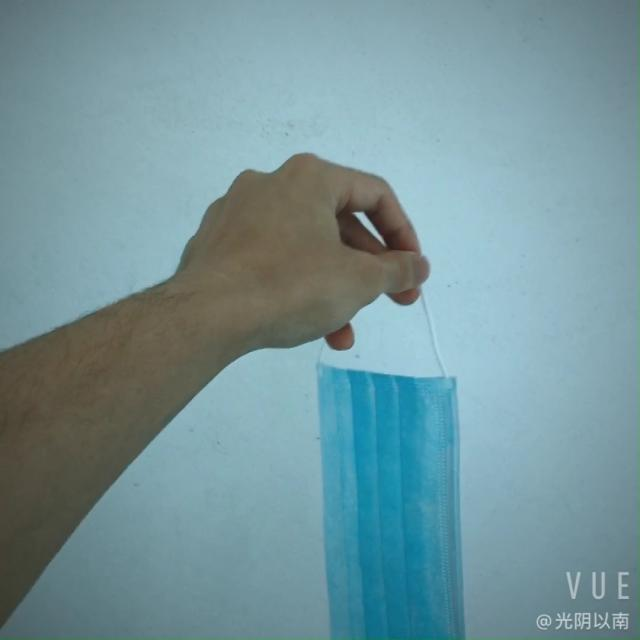face mask: (291, 328, 466, 625)
